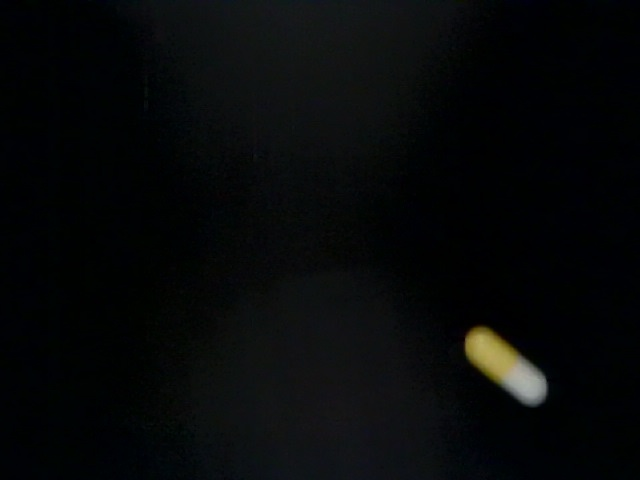YHLJ: (136, 100, 440, 197)
